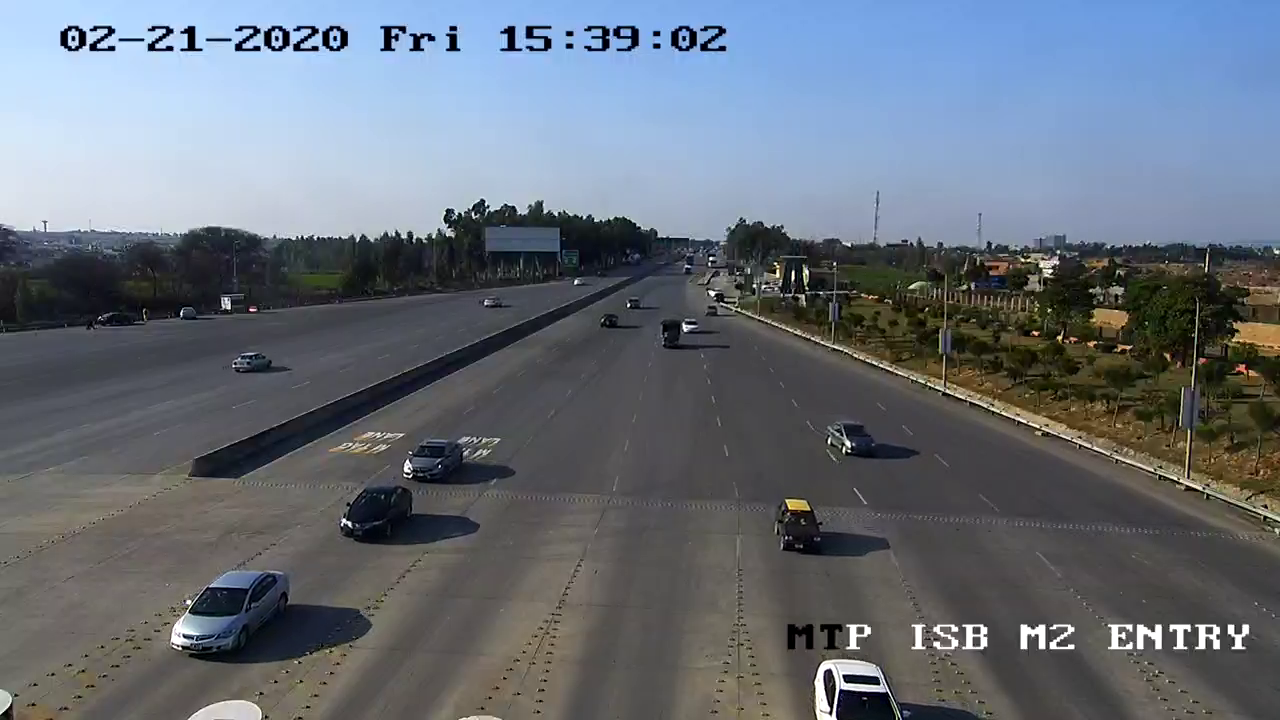f1: (160, 559, 300, 672), (334, 475, 423, 547), (388, 431, 475, 494), (765, 491, 834, 567)
